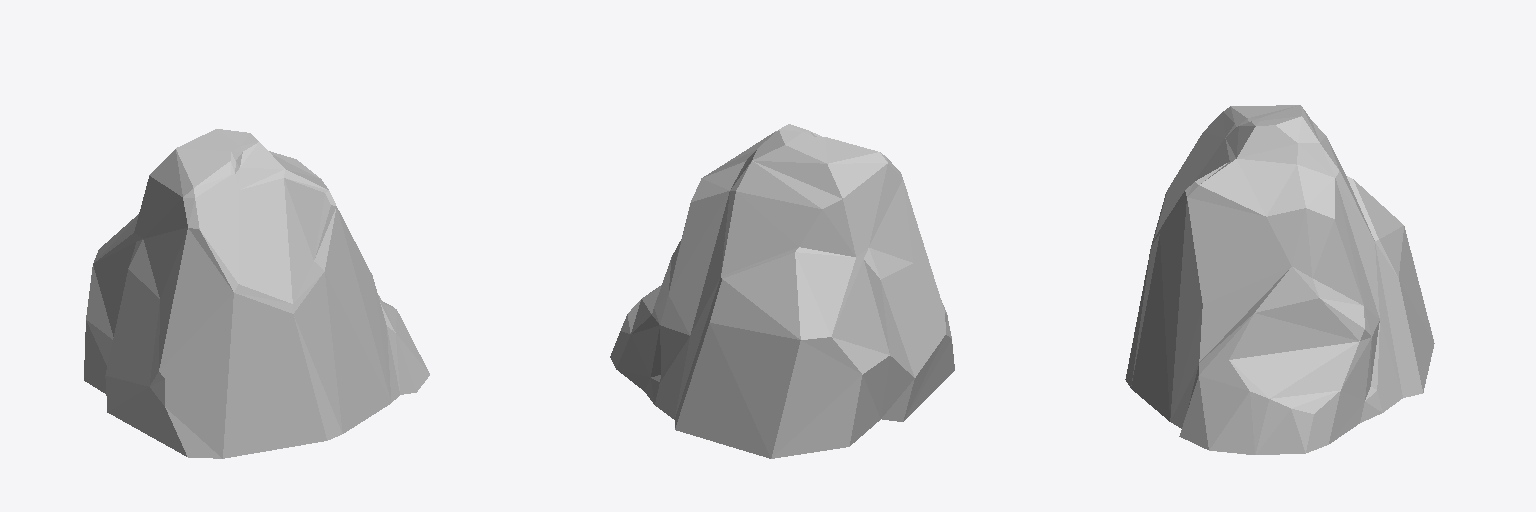
File: rock.obj
The picture shows the model from 3 angles: view 1: azimuth 30°, elevation 25°; view 2: azimuth 150°, elevation 25°; view 3: azimuth 270°, elevation 25°; orthographic projection.
Parts seen in each view (by area): view 1: Rock_3; view 2: Rock_3; view 3: Rock_3.
Boxes of the visible parts, box(x1,y1,x2,y2) form: Rock_3: box(84, 129, 429, 458); Rock_3: box(610, 124, 954, 458); Rock_3: box(1125, 105, 1434, 454).
Bounding box in the file's own units: 1.05 × 0.854 × 0.9437.